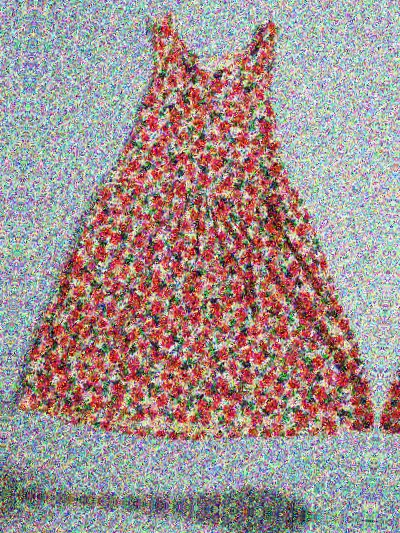Dress: (20, 8, 400, 467), (380, 35, 400, 493), (0, 0, 17, 438)
